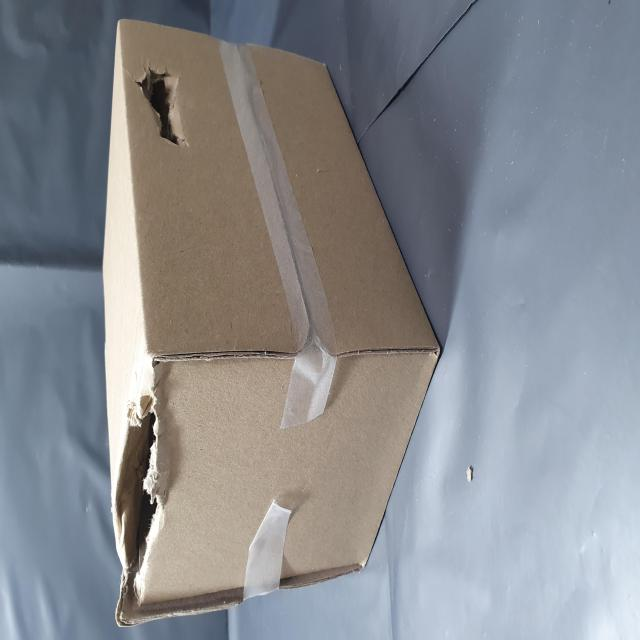damaged: (15, 197, 147, 304), (277, 248, 328, 321)
